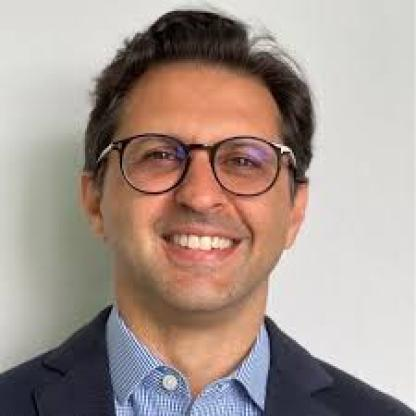person: (82, 11, 320, 321)
